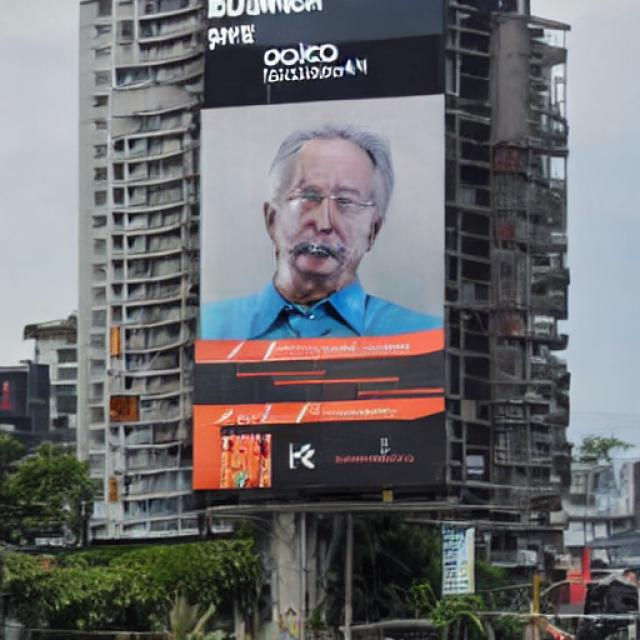Billboard: (188, 49, 450, 500)
